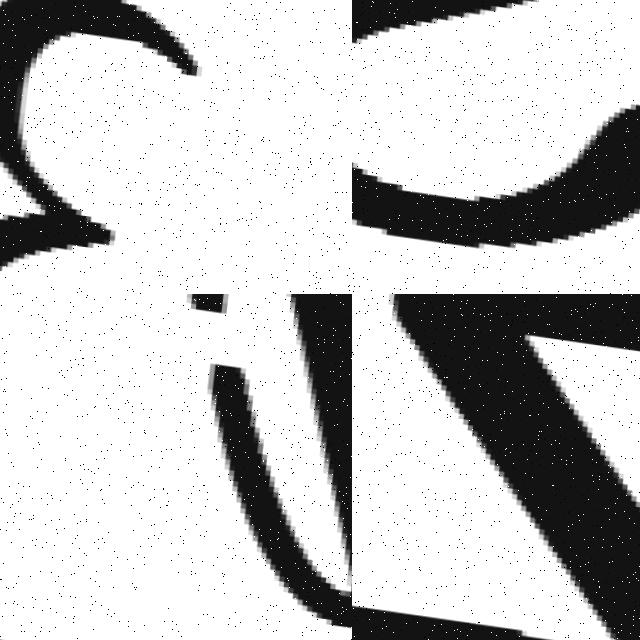3: (0, 0, 239, 294)
C: (209, 294, 352, 629)
S: (352, 0, 640, 281)
Z: (352, 294, 640, 640)
